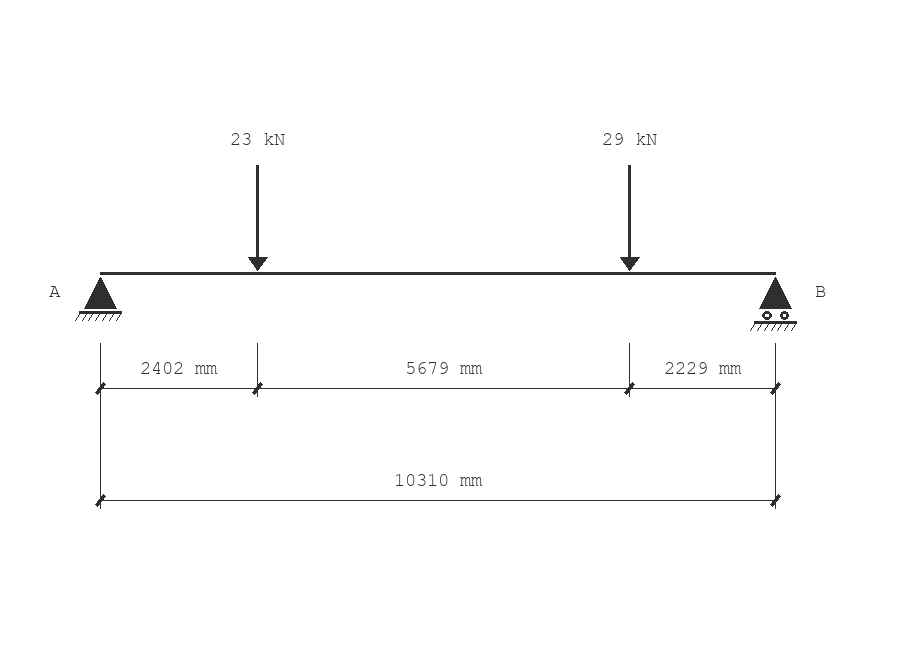pin_support: (75, 277, 122, 321)
point_load: (248, 165, 268, 271), (620, 165, 640, 271)
roller_support: (750, 277, 797, 331)
